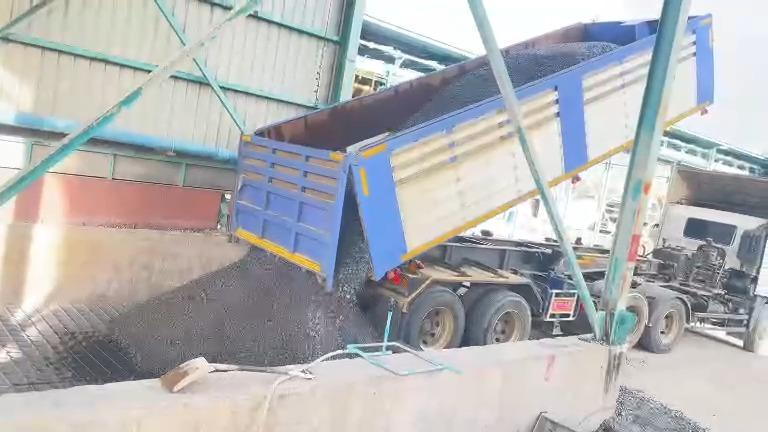gravel: (112, 182, 376, 374), (398, 64, 497, 130), (502, 42, 618, 87), (599, 386, 708, 431)
